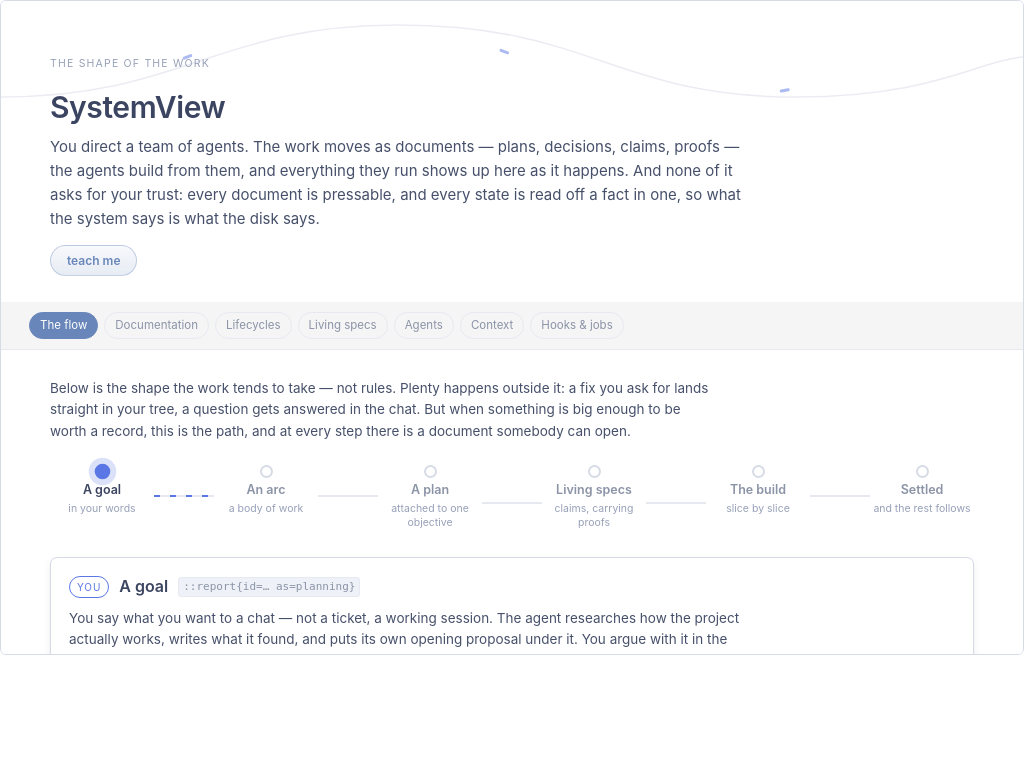
Test: HowWeWork › settling the plans walks the arc upward, and an unplanned objective holds it back
Step 1. Click the tab "Living specs" → (343, 325), box [298,312,388,338]
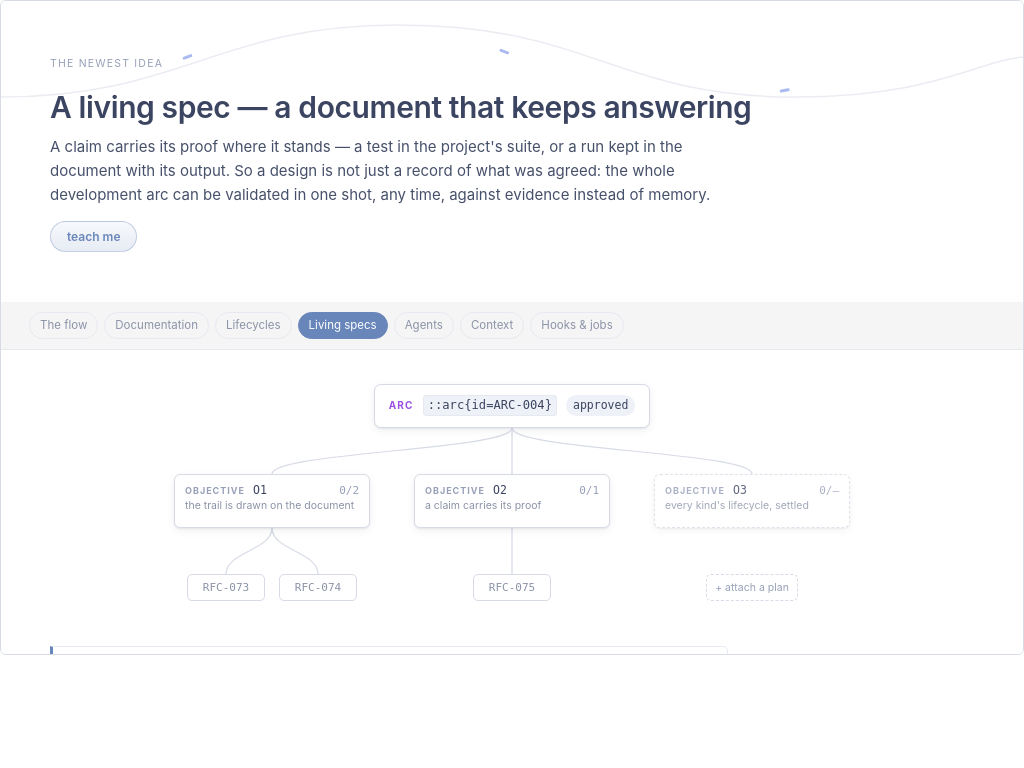
Step 2. Click the button "RFC-073" → (226, 588), box [187,574,265,601]
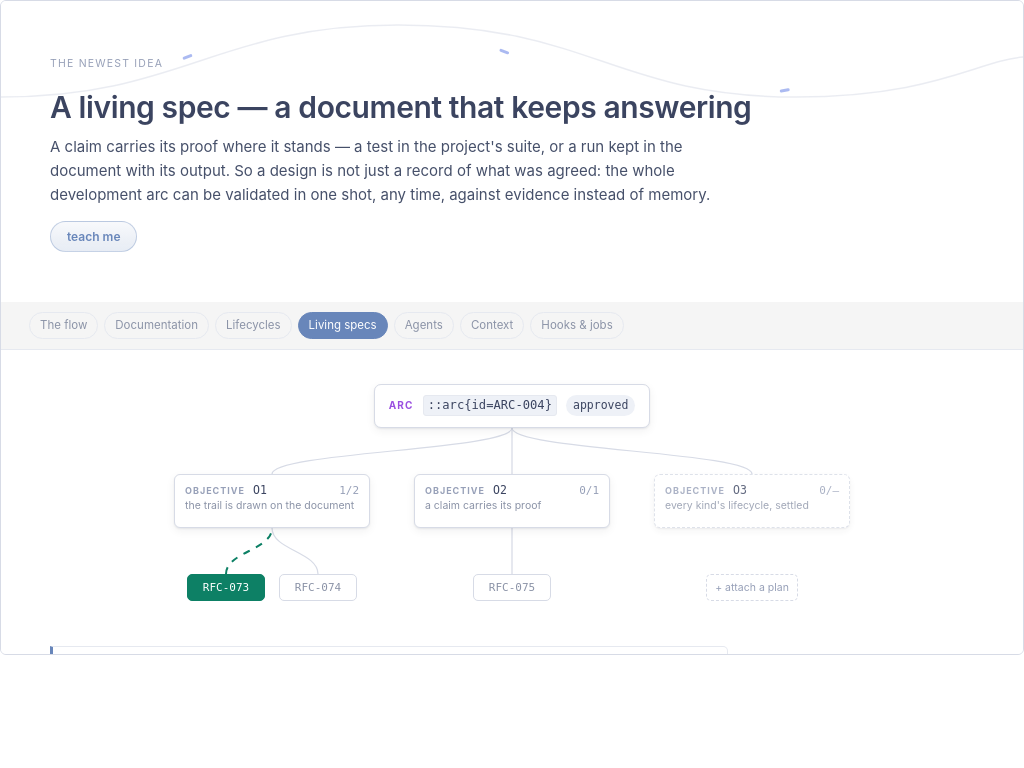
Step 3. Click the button "RFC-074" → (318, 588), box [279,574,357,601]
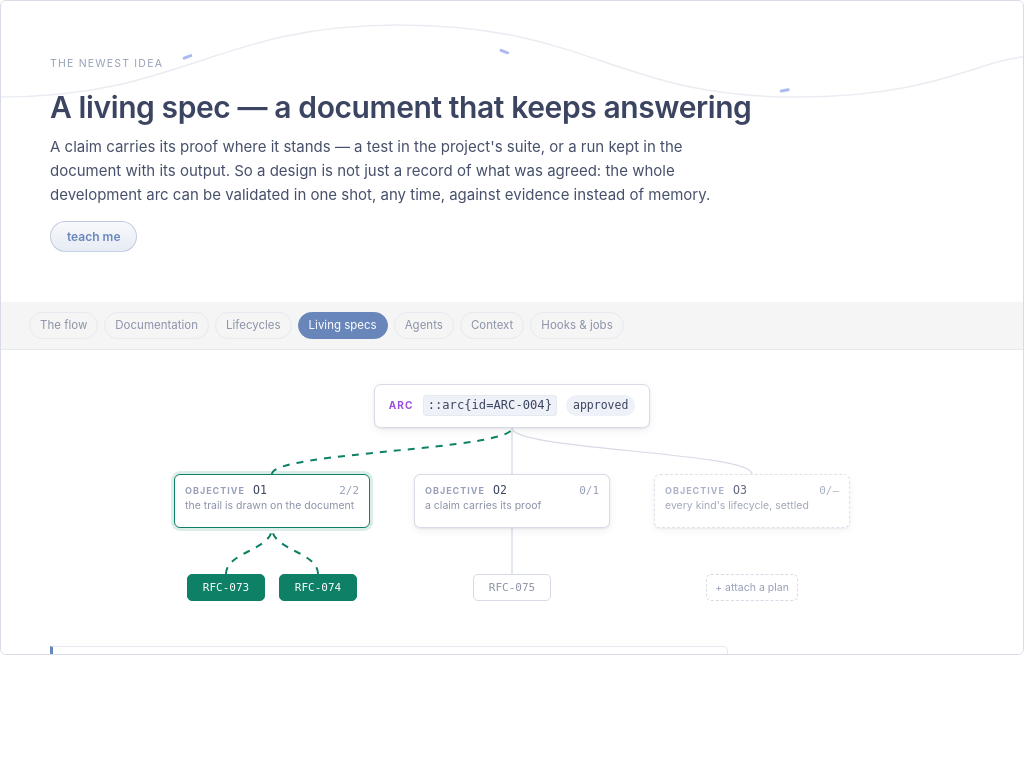
Step 4. Click the button "RFC-075" → (512, 588), box [473,574,551,601]
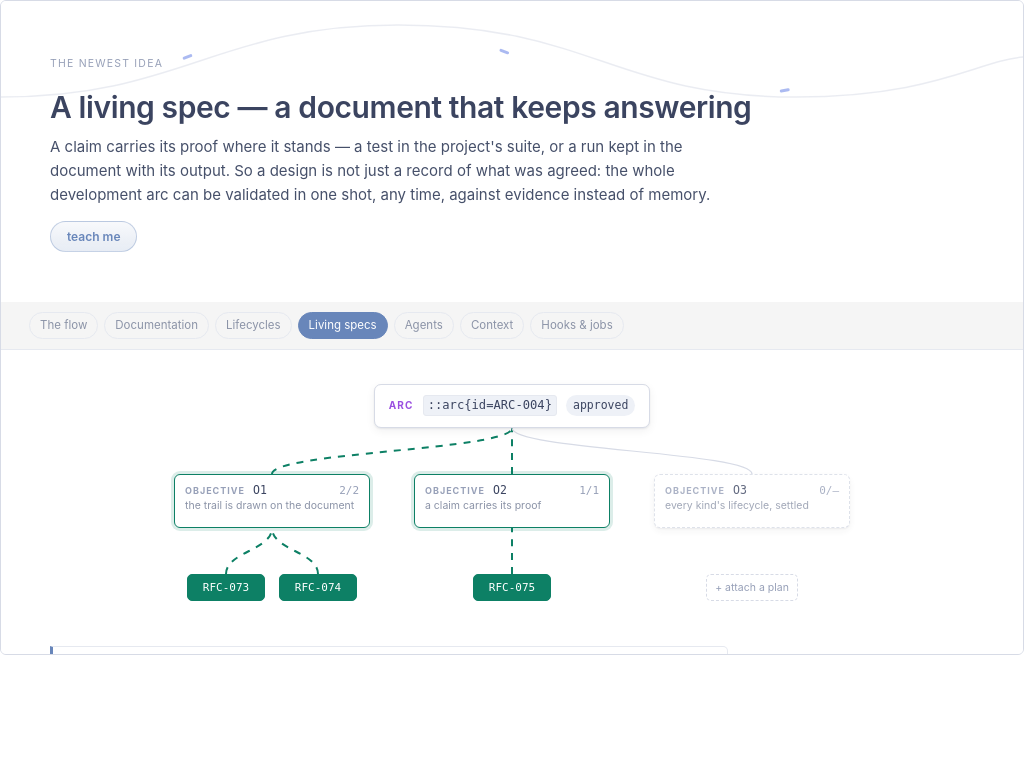
expect the text with class "hww-up__station" reads "approved": met, box [573,398,628,412]
Step 5. Click the button "+ attach a plan" → (752, 587), box [706,574,798,601]
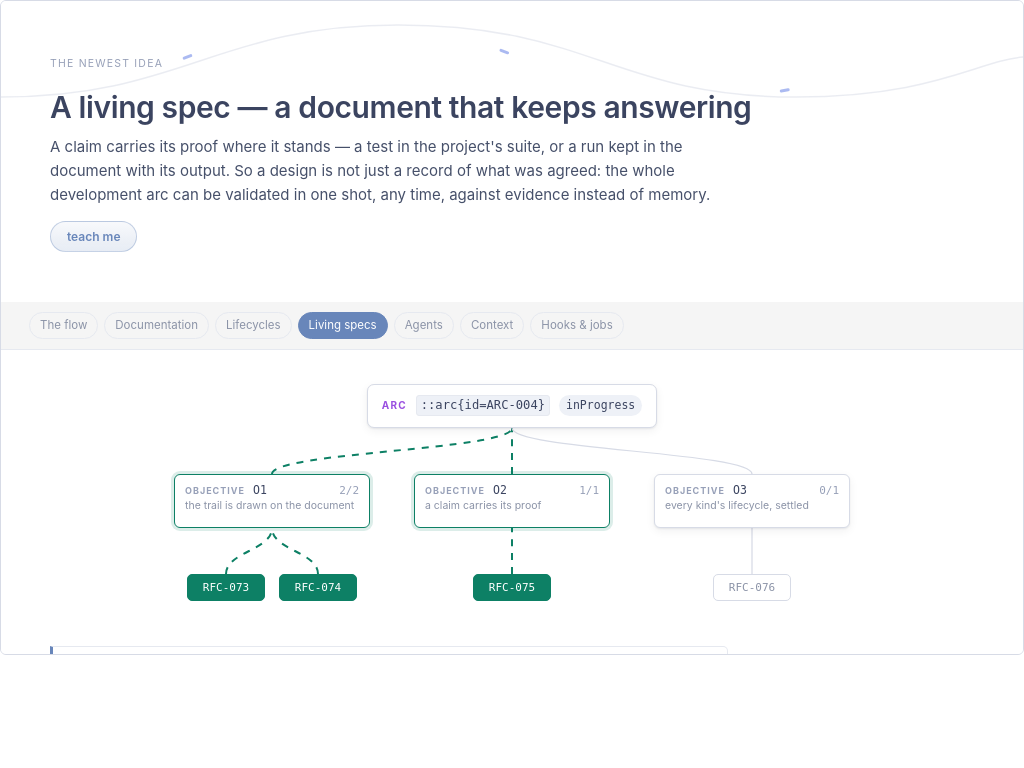
expect the text with class "hww-up__station" reads "inProgress": met, box [566,398,635,412]
Step 6. Click the button "RFC-076" → (752, 588), box [713,574,791,601]
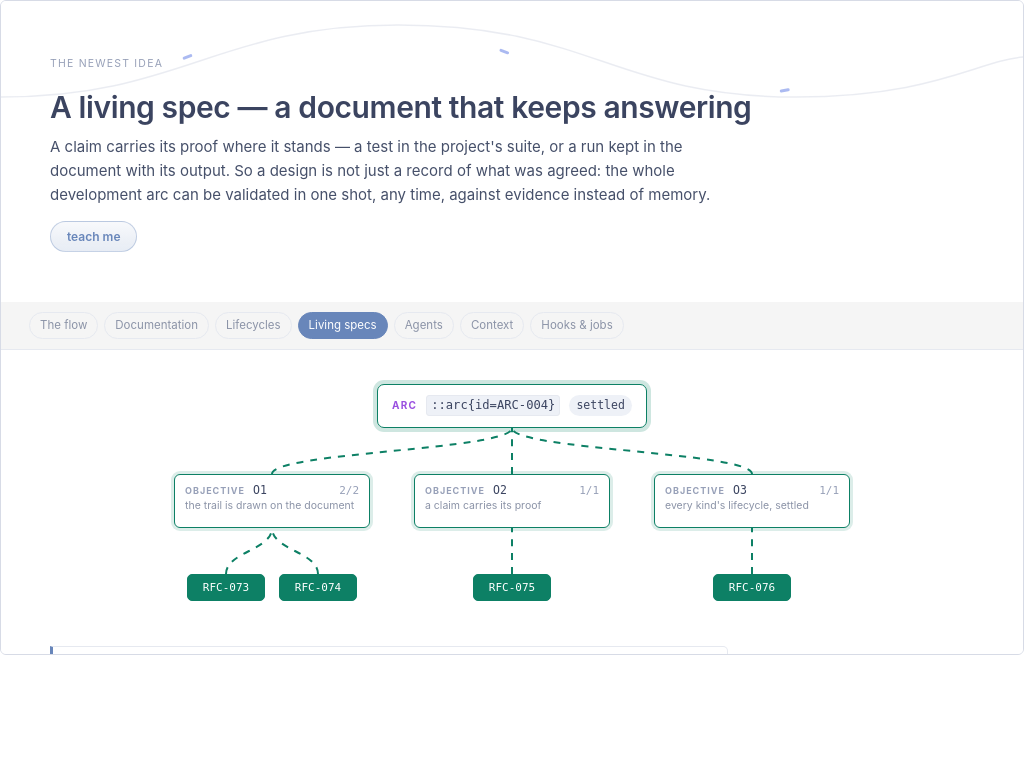
expect the text with class "hww-up__station" reads "settled": met, box [576,398,625,412]
